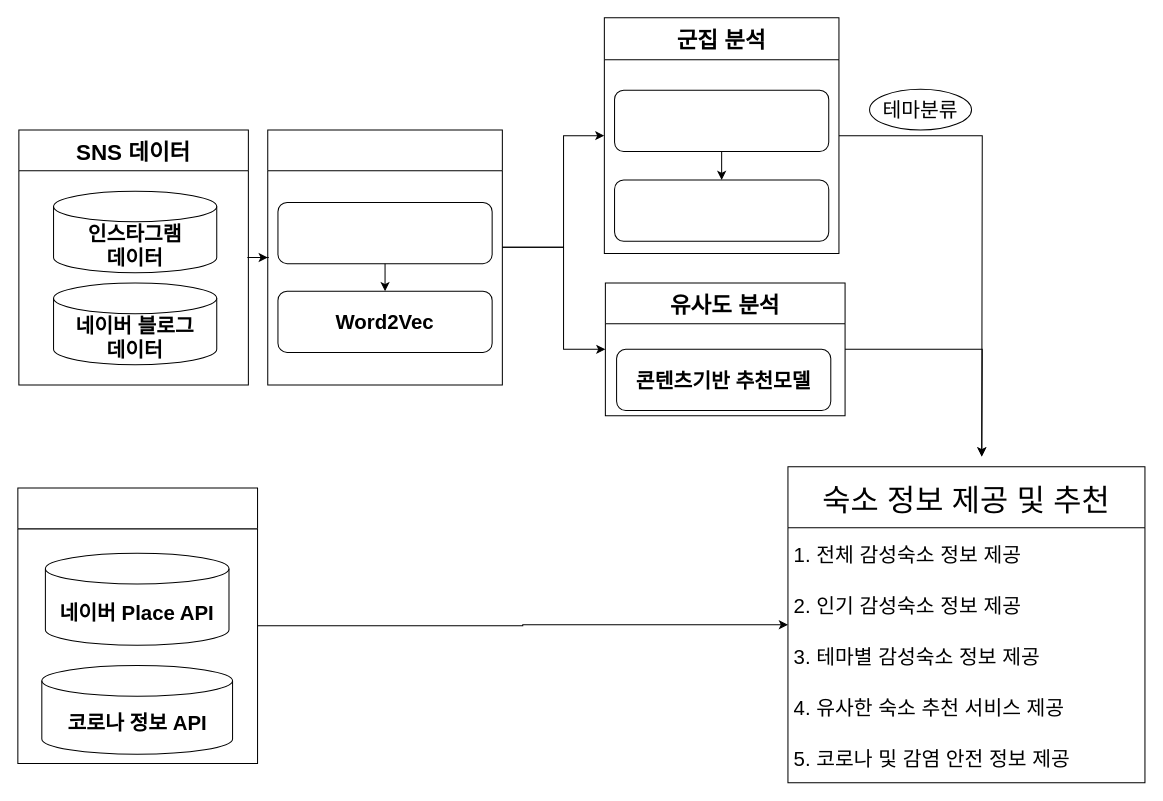
Some shapes in this 1163 by 801 pixel diagram are drawn without their labels. Each missing label, with the box of its shape:
Kiwi 형태소 분석기: (277, 201, 492, 264)
NLP: (267, 129, 502, 385)
Spherical Kmeans: (614, 89, 829, 151)
TextRank: (614, 179, 829, 241)
서비스 데이터: (17, 487, 258, 763)
